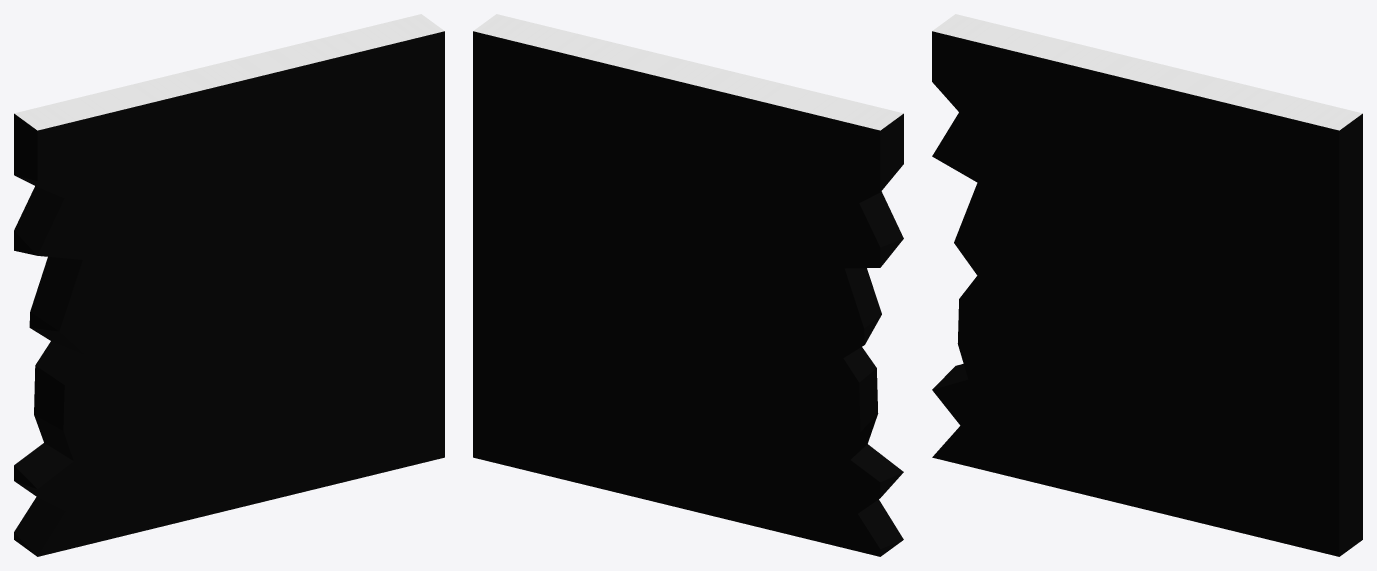
Rendered from Mod_WallBroken_02.fbx.
3 views of the same model, side by side, from view 1: azimuth 30°, elevation 25°; view 2: azimuth 150°, elevation 25°; view 3: azimuth 330°, elevation 25° (orthographic).
Parts seen in each view (by area): view 1: Mod_WallBroken_02; view 2: Mod_WallBroken_02; view 3: Mod_WallBroken_02.
Part boxes in pixels (left/top/right/bottom): Mod_WallBroken_02: left=14, top=14, right=444, bottom=556; Mod_WallBroken_02: left=473, top=14, right=903, bottom=556; Mod_WallBroken_02: left=932, top=14, right=1362, bottom=556.
Bounding box in the file's own units: 100 × 100 × 10.
